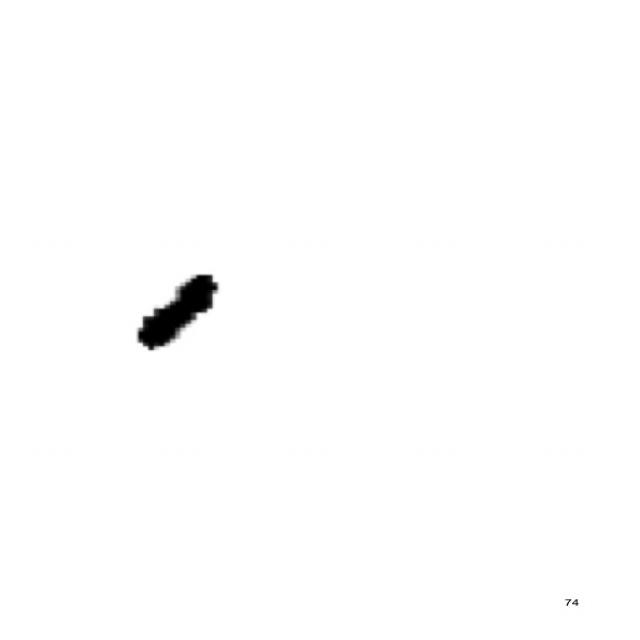0 -zero-: (118, 262, 232, 366)
